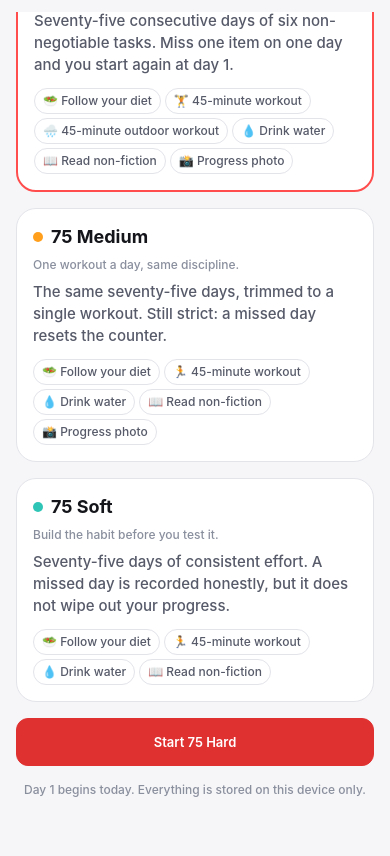
Test case: Onboarding › defaults to 75 Hard and starts it on the first tap
The image size is (390, 856).
(page scrolled)
Check: the text "Start 75 Hard" is shown, box [154,733,236,751]
Click the button "Start 75 Hard" at x=195, y=742, box [16,718,374,766]
(page scrolled)
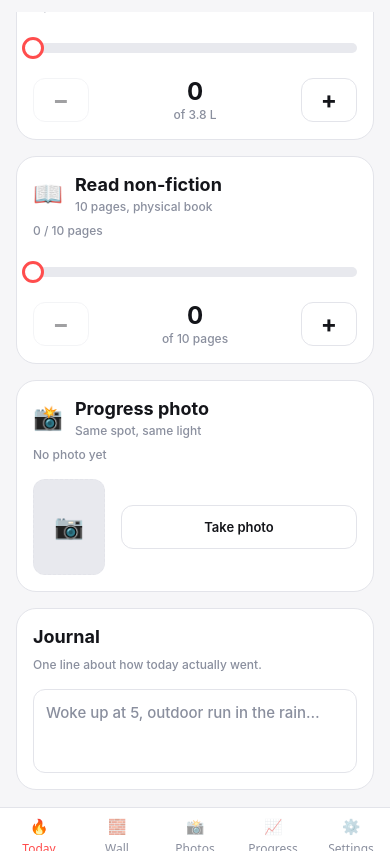
Check: the text "Progress photo" is shown, box [75,398,209,419]
Check: the text "Today" is shown, box [22,841,56,851]
